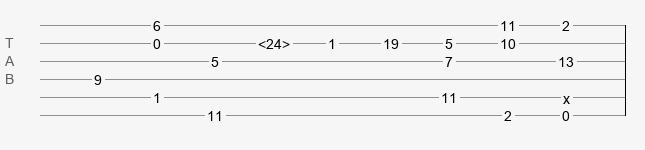0: (153, 36, 161, 46), (562, 108, 570, 118)
1: (153, 90, 161, 100), (328, 36, 336, 46)
10: (500, 36, 516, 46)
11: (207, 108, 223, 118), (441, 90, 457, 100), (500, 18, 516, 28)
13: (558, 54, 574, 64)
19: (383, 36, 399, 46)
2: (504, 108, 512, 118), (562, 18, 570, 28)
5: (211, 54, 219, 64), (445, 36, 453, 46)
6: (153, 18, 161, 28)
7: (445, 54, 453, 64)
9: (94, 72, 102, 82)
harmonic: (258, 36, 290, 46)
x: (563, 91, 570, 99)
